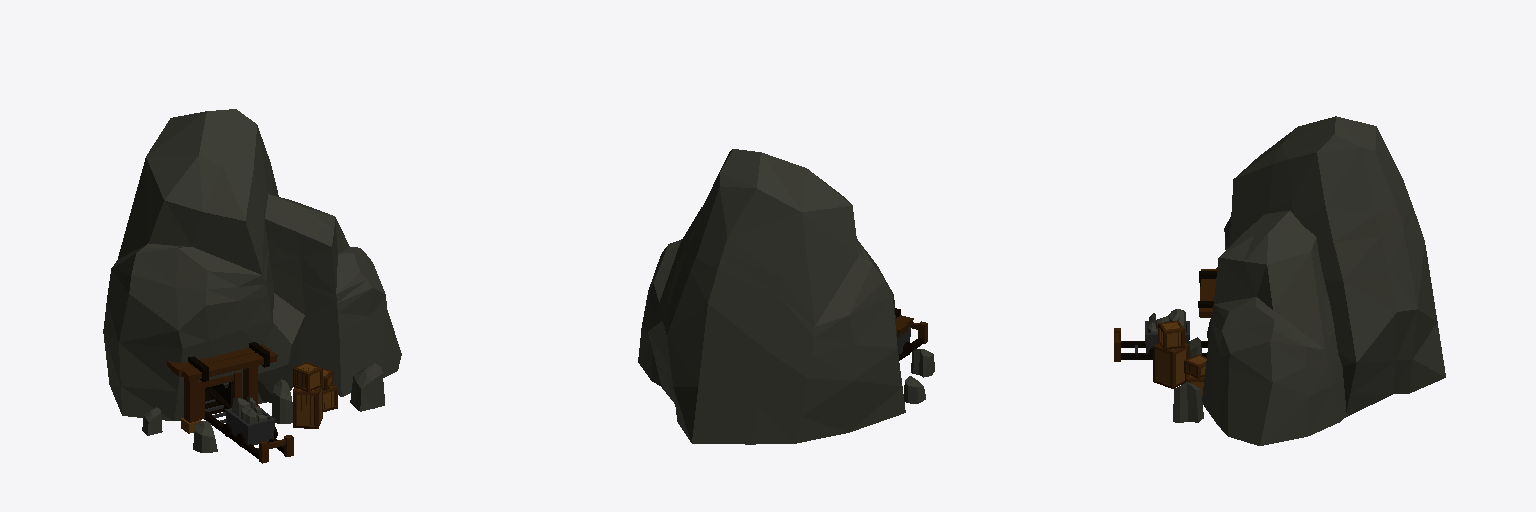
File: Mine_Cube.obj
3 renders of one model, left to right at view 1: azimuth 30°, elevation 25°; view 2: azimuth 150°, elevation 25°; view 3: azimuth 270°, elevation 25°, orthographic.
Parts seen in each view (by area): view 1: Mine_Cube.081; view 2: Mine_Cube.081; view 3: Mine_Cube.081.
Boxes of the visible parts, x1,y1,x2,y2 form: Mine_Cube.081: [103, 109, 401, 463]; Mine_Cube.081: [638, 149, 934, 444]; Mine_Cube.081: [1114, 116, 1445, 445].
Size of the model in its own units: 1.28 by 1.17 by 1.36.